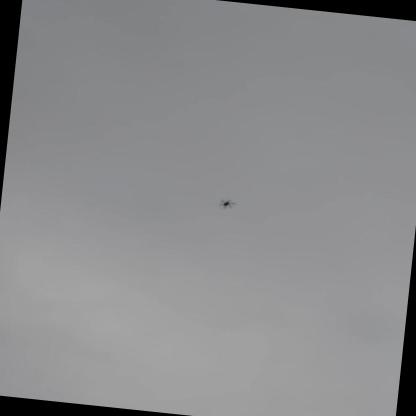drone: (216, 198, 235, 211)
